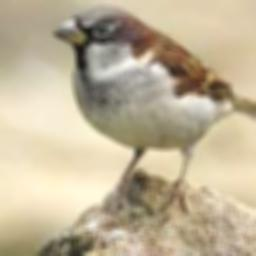Sparrow: (51, 6, 256, 215)
